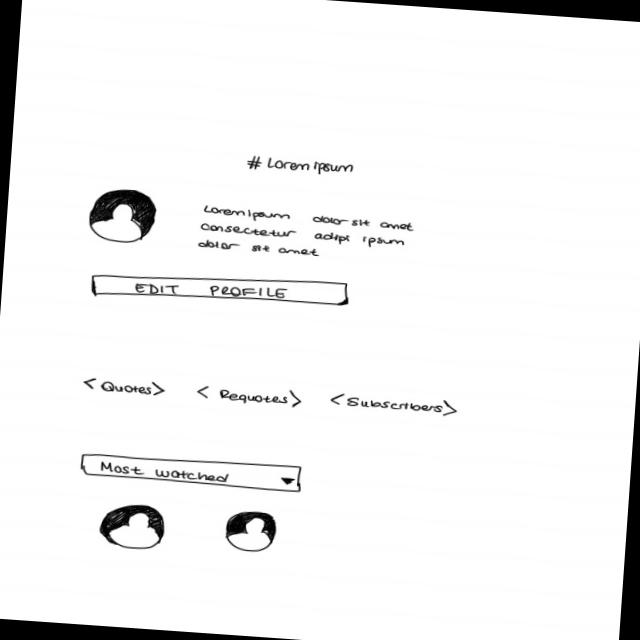button: (90, 262, 352, 316)
image: (85, 187, 161, 246), (95, 499, 168, 552), (221, 506, 278, 554)
label: (244, 153, 358, 180)
link: (328, 389, 458, 418), (194, 382, 304, 410), (80, 374, 168, 397)
select: (78, 450, 304, 494)
textbox: (197, 203, 416, 267)
